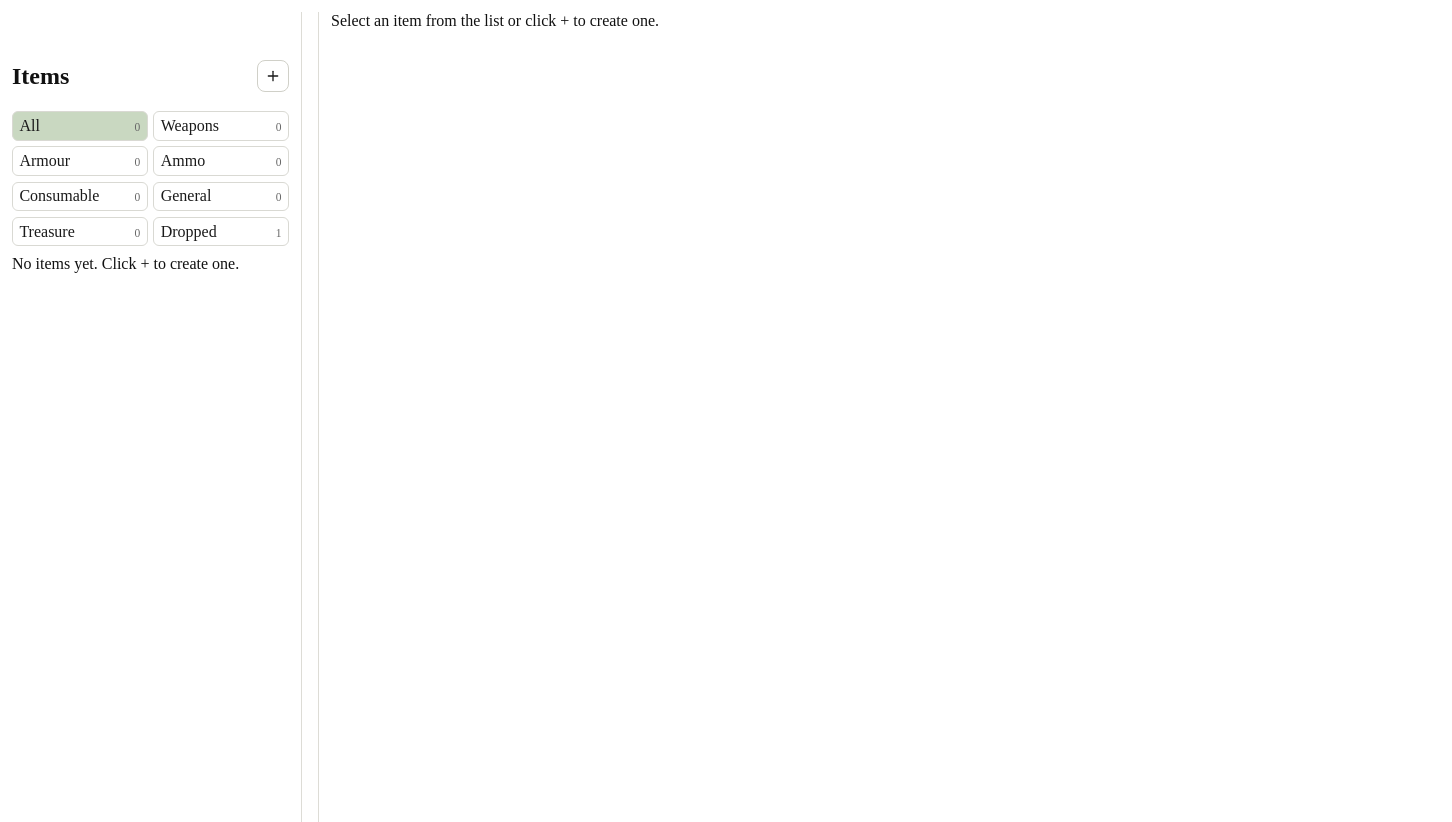
Items tab source reads before shared persistence › reports a commit rejection after staging writes, without success feedback
The image size is (1452, 822).
Click the button "Dropped 1" at (221, 232), box [153,217,289,246]
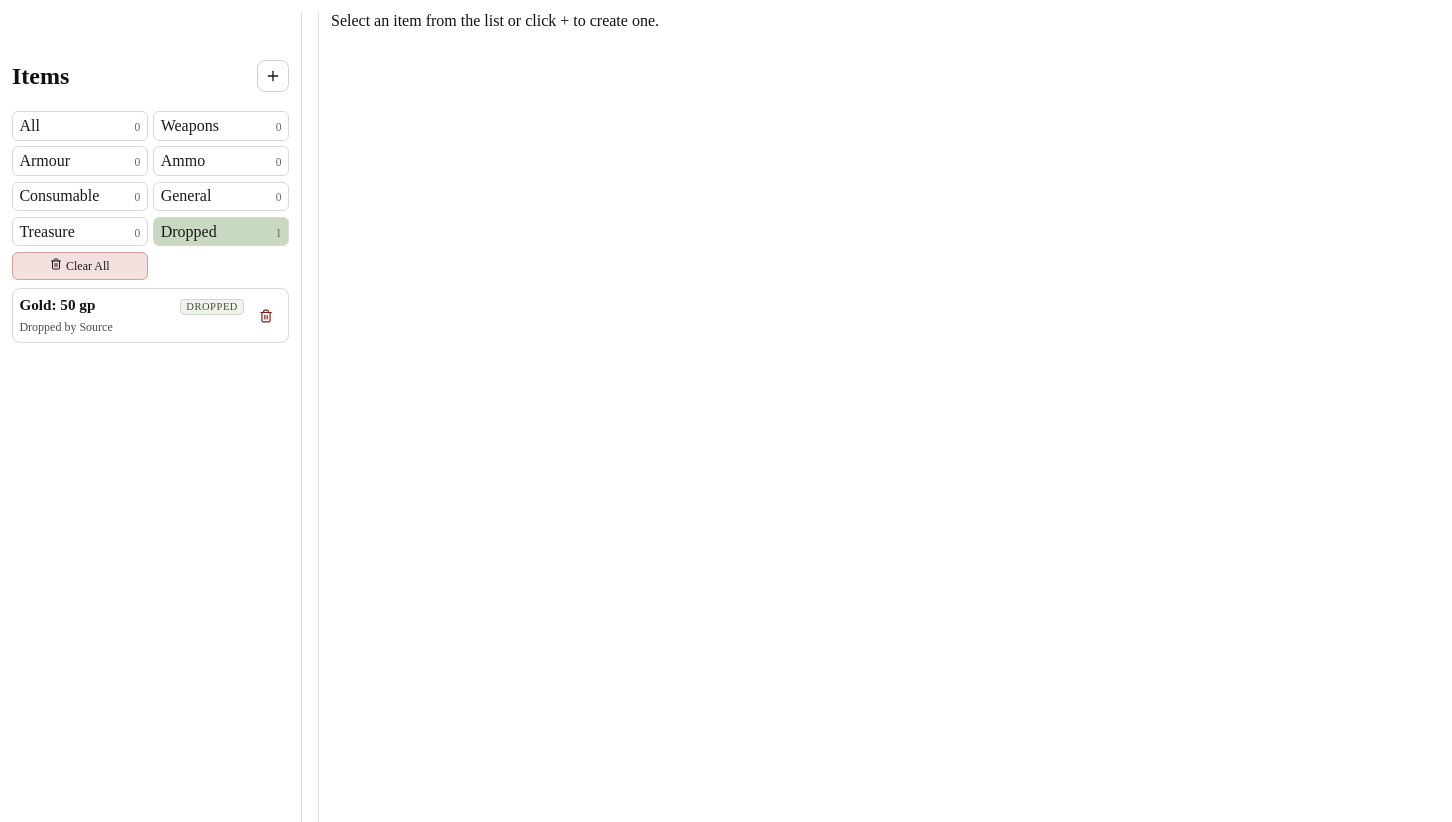
Click the button "Gold: 50 gp dropped Dropped by Source" at (57, 304), box [19,296,244,336]
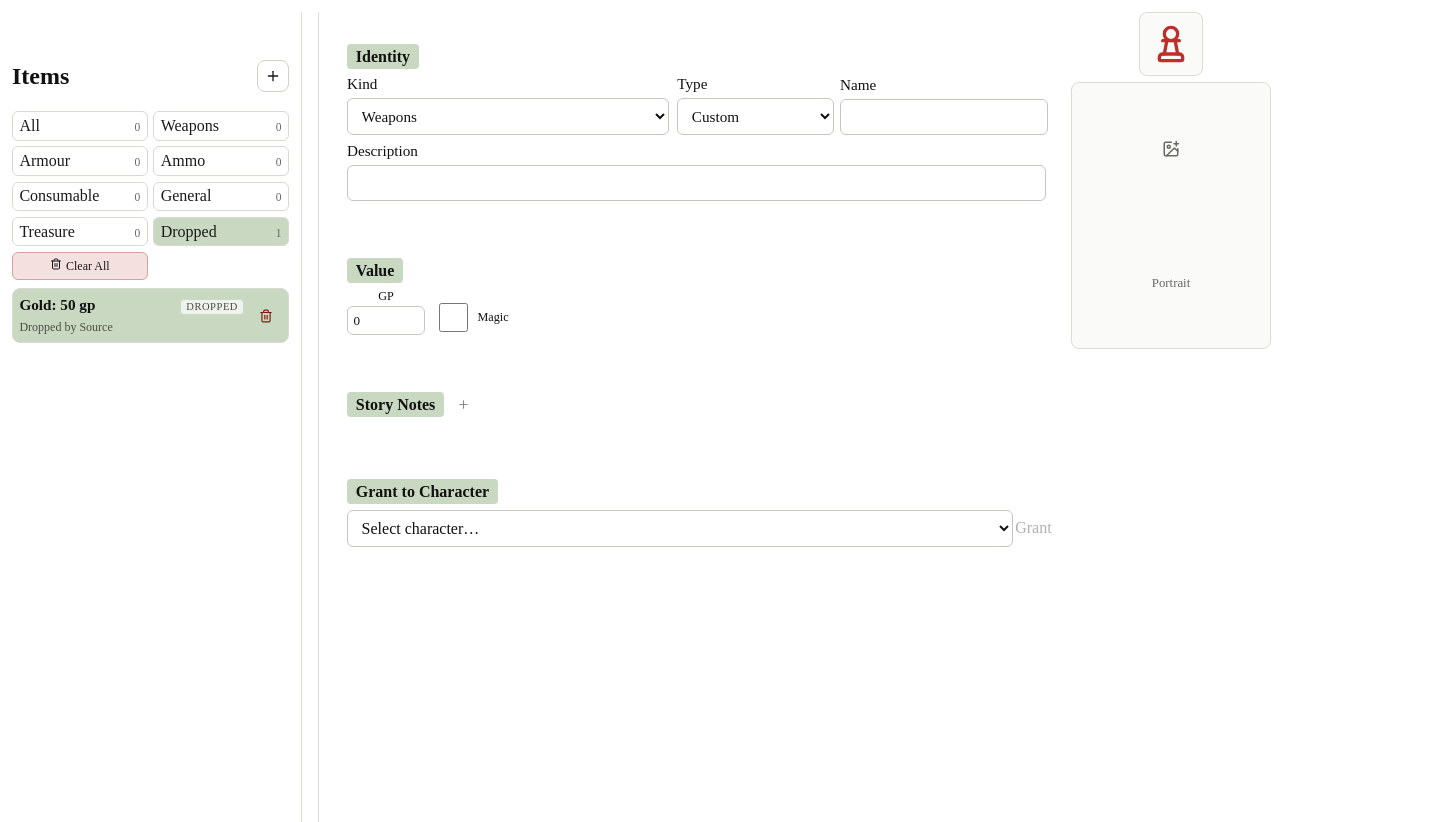
Select "Ada (Fighter 1)" in the 3rd dropdown at (680, 528), box [347,510,1013,547]
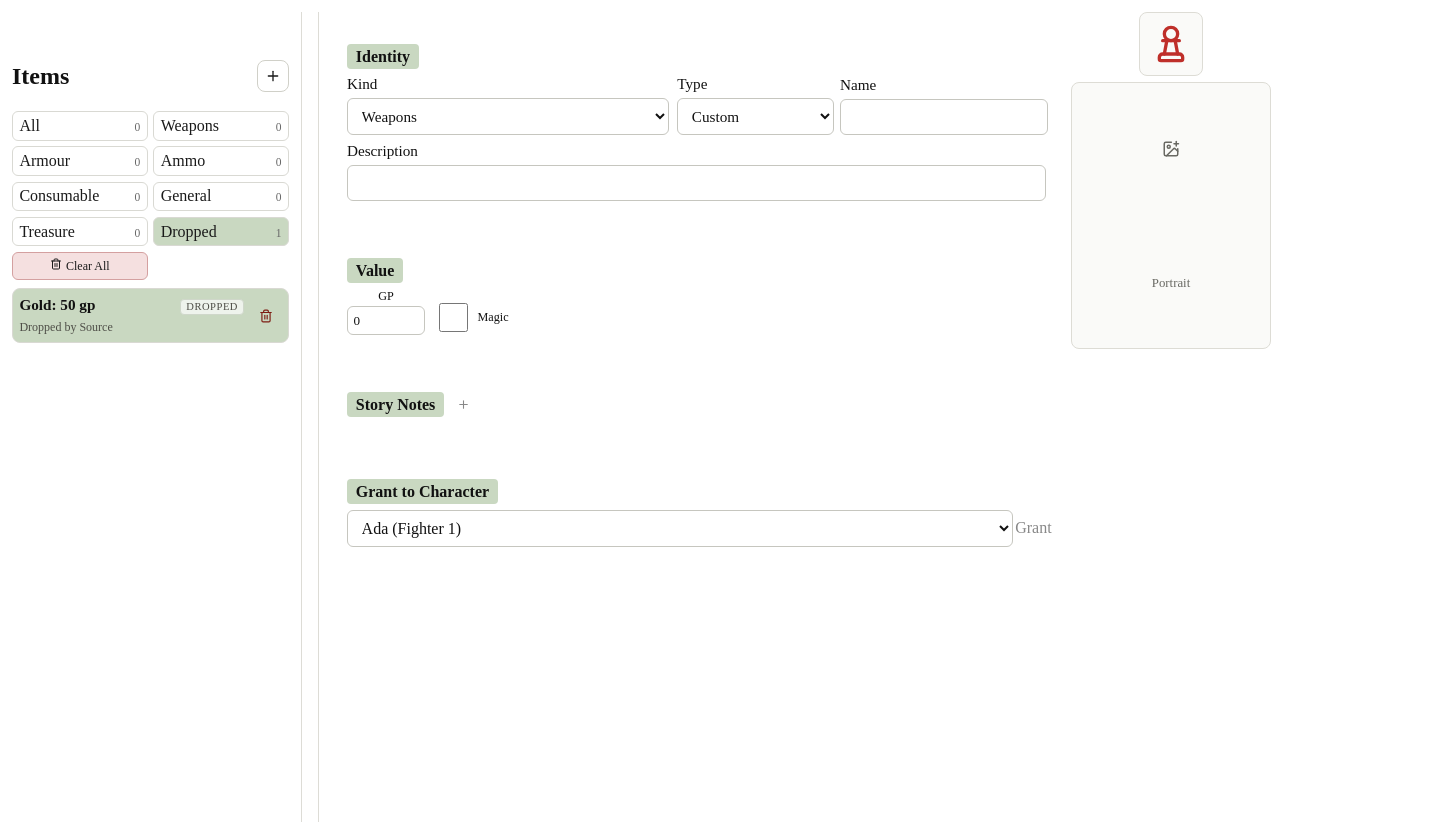
Click the button with aria-label "Grant item to selected character" at (1033, 528), box [1021,515,1046,541]
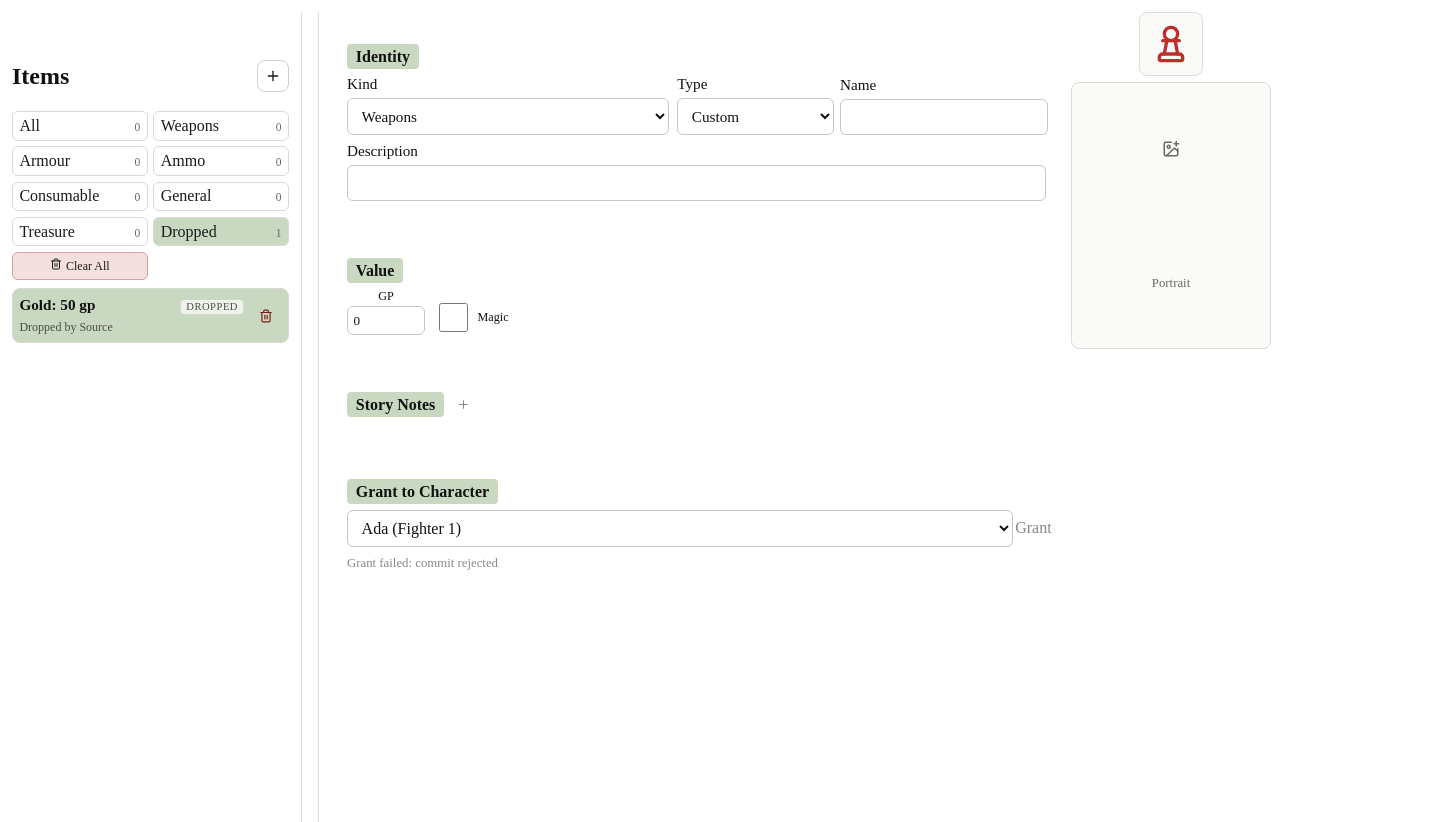
expect the button with aria-label "Grant item to selected character" is enabled: met, box [1021,515,1046,541]
expect the text "Grant failed: commit rejected" is shown: met, box [347,556,498,570]
